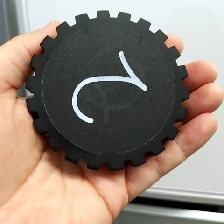gear: (23, 8, 191, 173)
